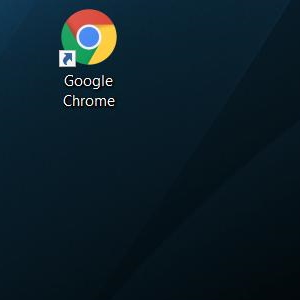chrome: (59, 9, 117, 67)
